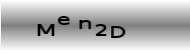2: (94, 23, 108, 37)
D: (110, 24, 127, 39)
M: (35, 22, 56, 37)
e: (56, 15, 71, 27)
n: (78, 18, 92, 29)
